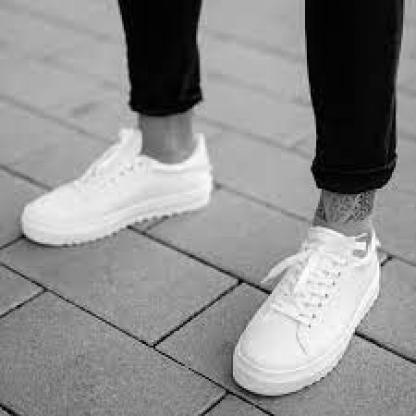ankle: (167, 156, 171, 160), (360, 238, 363, 242)
heel: (202, 187, 205, 190), (377, 265, 379, 268)
left_foot: (233, 219, 386, 394)
pinky: (305, 357, 309, 364), (31, 203, 35, 206)
right_foot: (20, 138, 213, 241)
toe: (245, 348, 251, 353), (54, 228, 59, 232)
